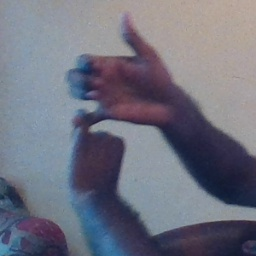S: (63, 11, 173, 182), (61, 11, 168, 162)
